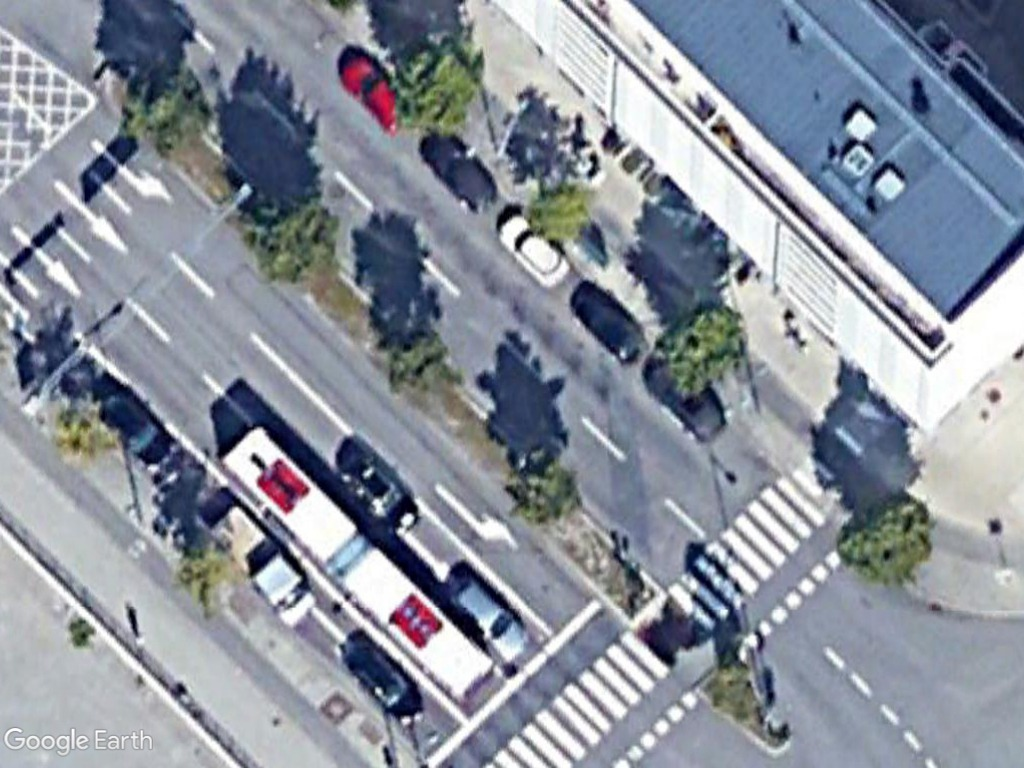bus: (215, 421, 496, 707)
car: (326, 434, 423, 541), (434, 565, 532, 666), (417, 123, 509, 219), (337, 641, 430, 729), (494, 209, 572, 286)
